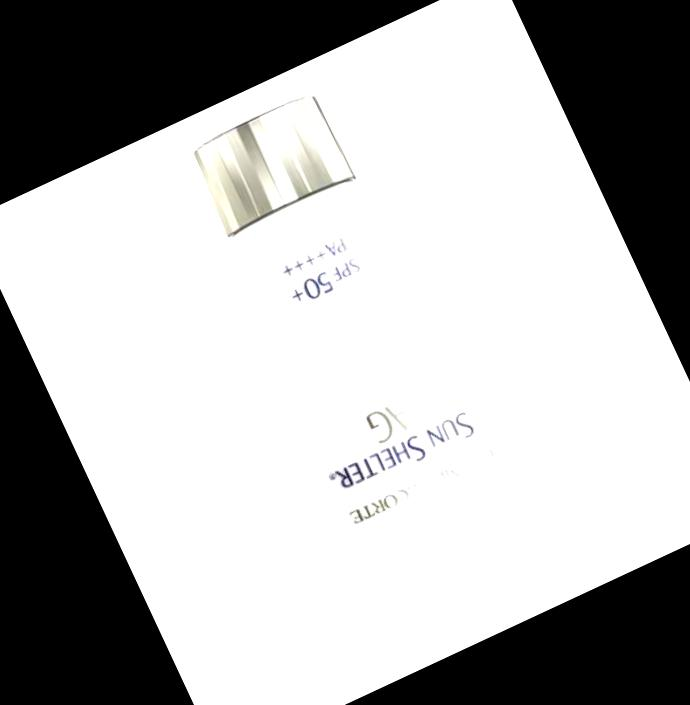cosmetic: (160, 75, 562, 636)
